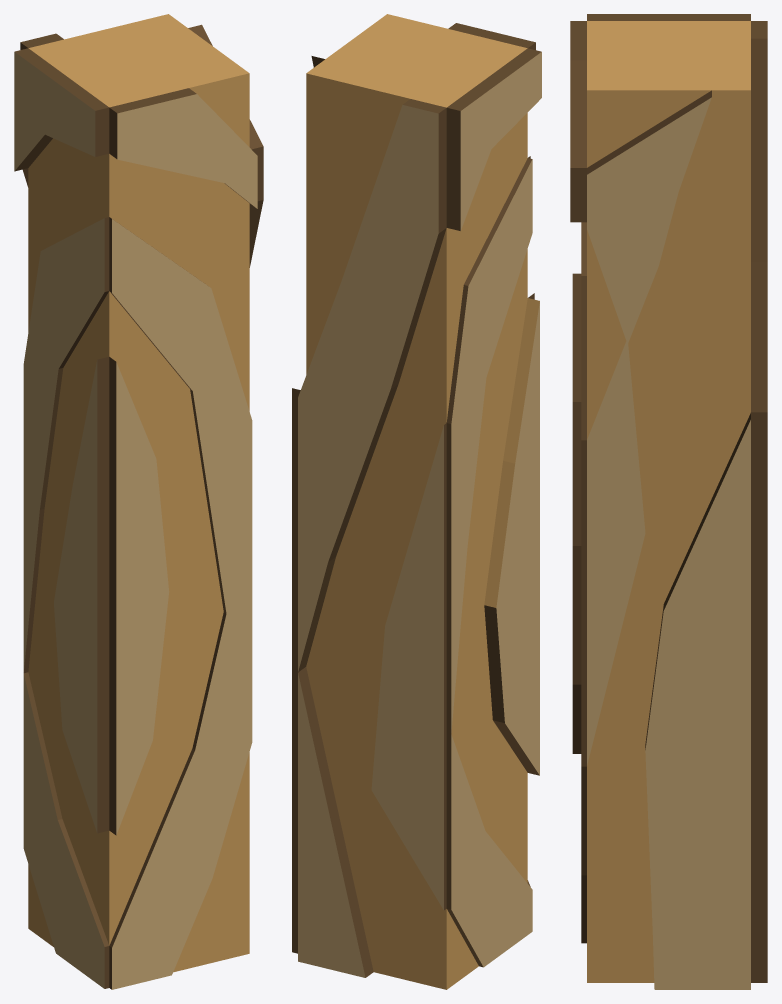
3 renders of one model, left to right at view 1: azimuth 30°, elevation 25°; view 2: azimuth 150°, elevation 25°; view 3: azimuth 270°, elevation 25°, orthographic.
Parts seen in each view (by area): view 1: Cube.004; view 2: Cube.004; view 3: Cube.004.
Part boxes in pixels (bbox=[...]): Cube.004: bbox=[14, 14, 263, 989]; Cube.004: bbox=[292, 14, 541, 989]; Cube.004: bbox=[570, 14, 767, 989].
Bounding box in the file's own units: 60.02 × 300 × 60.02.
